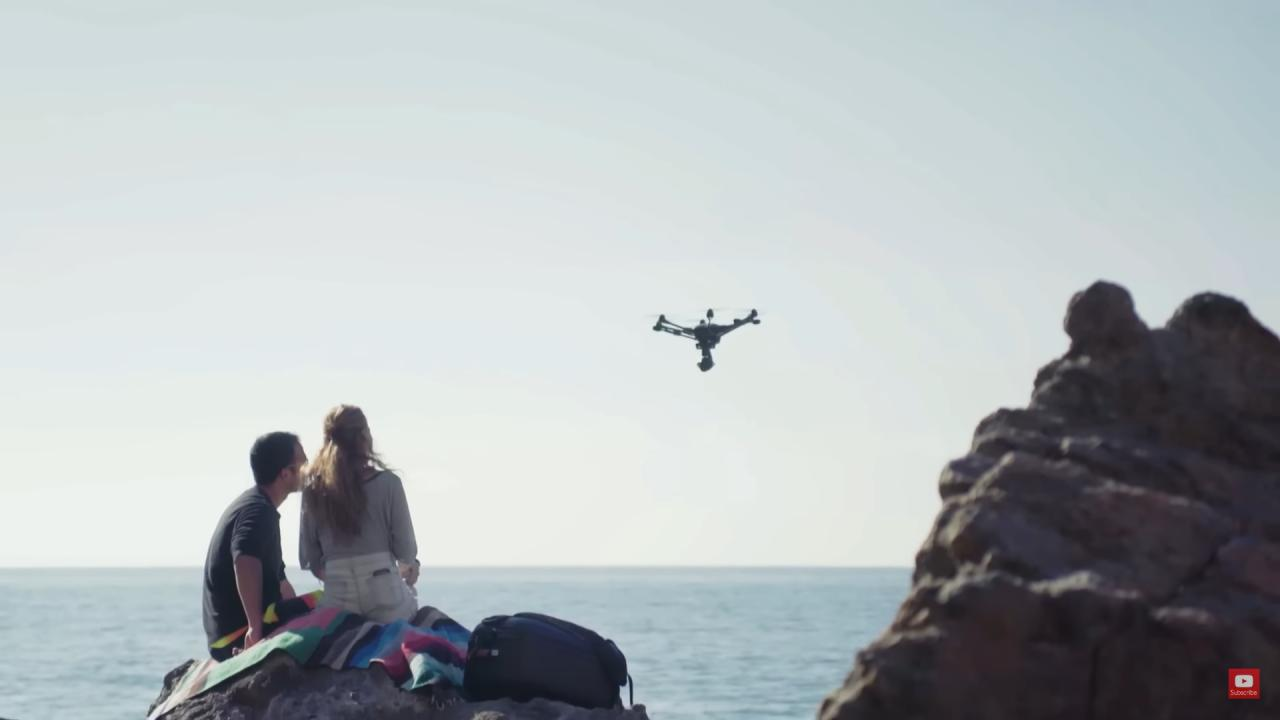Drone: (642, 300, 774, 379)
